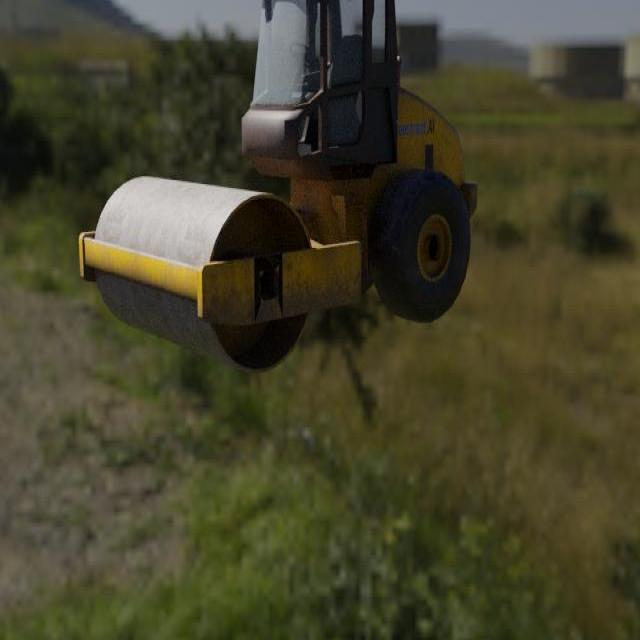Roller: (78, 0, 478, 375)
